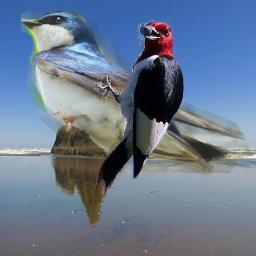Swallow: (21, 11, 249, 181)
Woodpecker: (89, 10, 187, 200)
